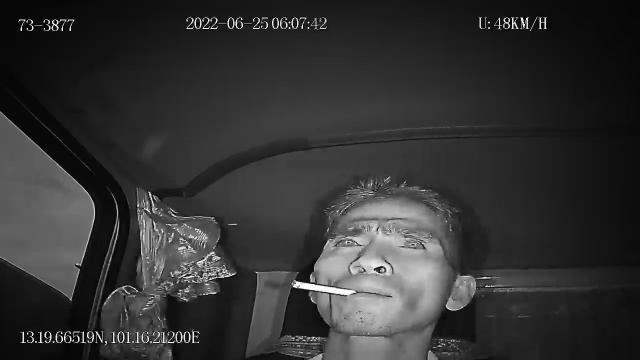SafeDriving: (390, 231, 432, 254), (328, 231, 364, 252)
Smoking: (290, 276, 358, 300)
